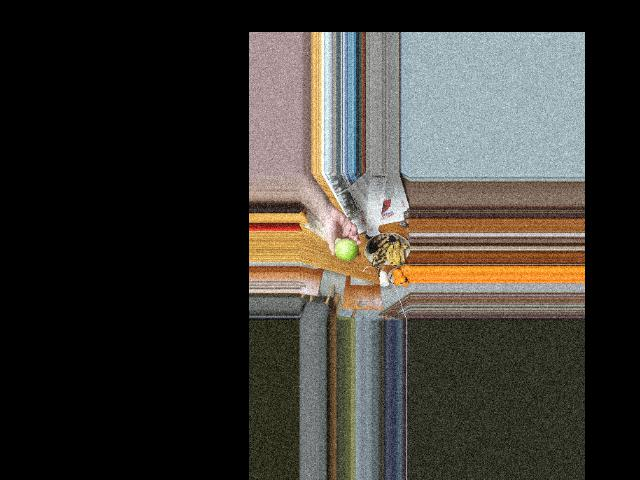apple: (335, 237, 357, 265)
